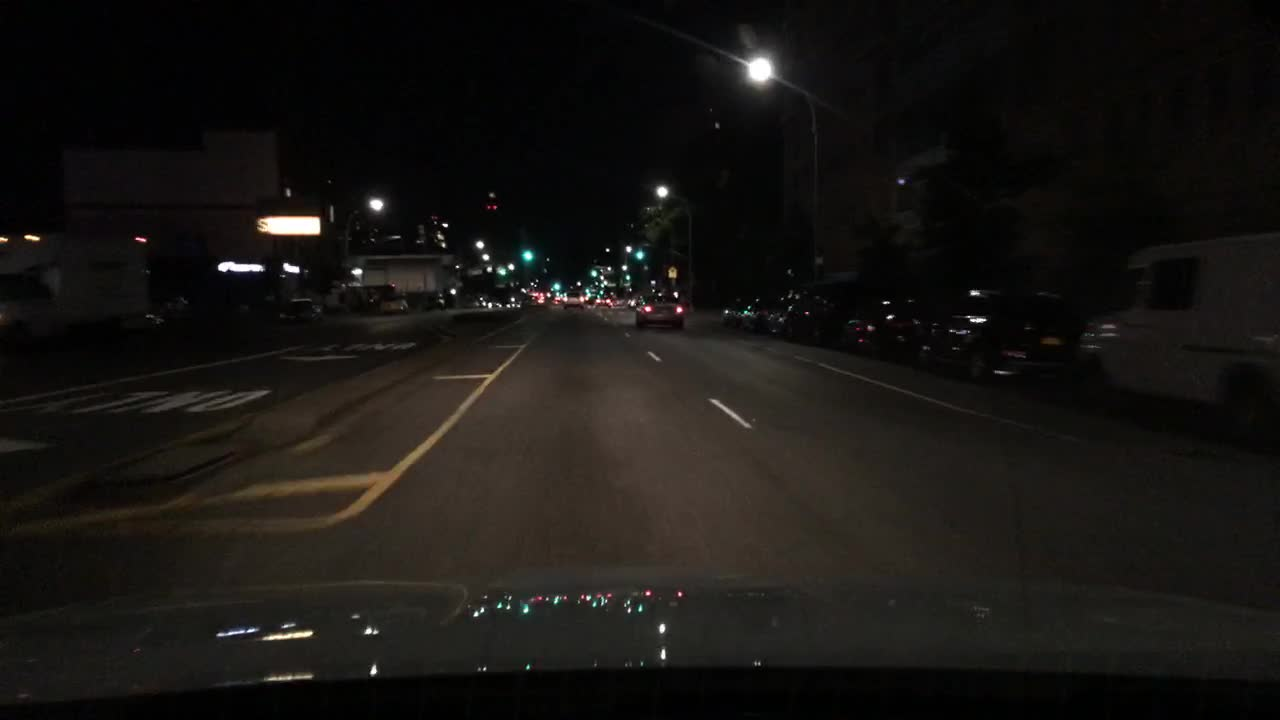car: (1070, 233, 1275, 444), (920, 283, 1077, 380), (838, 290, 938, 355), (772, 287, 841, 345), (737, 290, 784, 331), (635, 292, 686, 329), (275, 296, 326, 325), (378, 289, 408, 315), (723, 294, 744, 327), (417, 289, 448, 311), (560, 290, 586, 310), (467, 292, 492, 310), (525, 283, 544, 306), (504, 292, 523, 310), (625, 292, 642, 310), (593, 292, 614, 306), (551, 289, 565, 310), (490, 290, 506, 308)
traffic light: (632, 247, 647, 261), (522, 248, 536, 262), (588, 268, 600, 283), (550, 280, 562, 294)
traffic sign: (665, 264, 677, 280)
truck: (1, 236, 149, 367)
